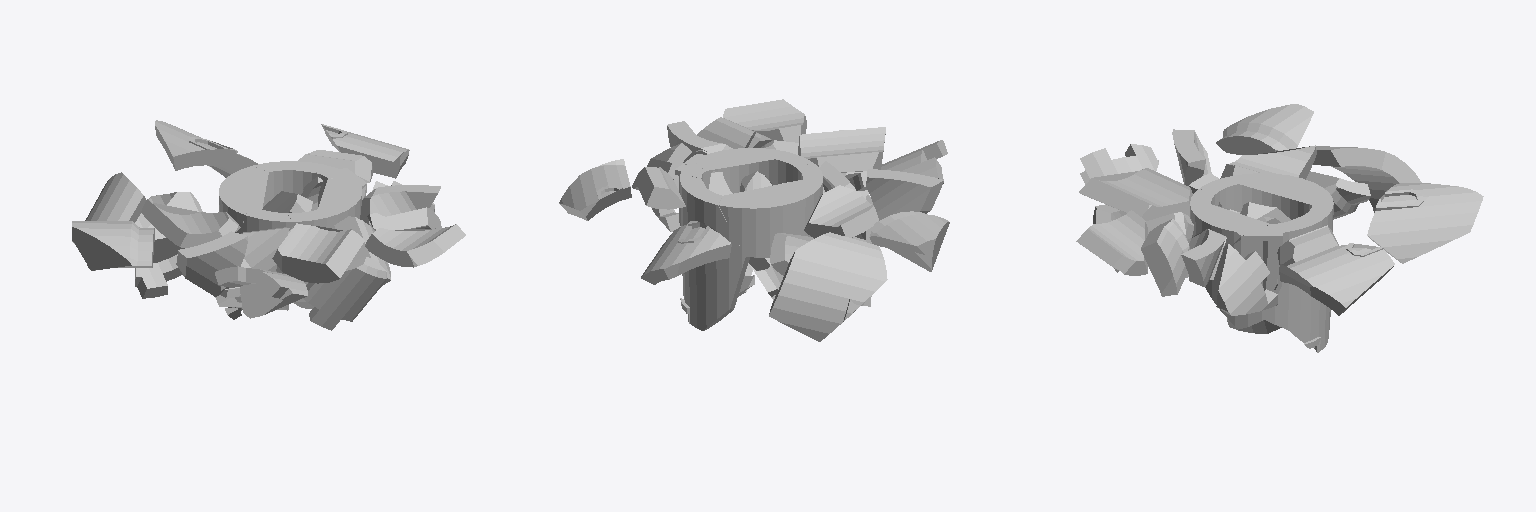
The model's file is destruction_tower_000066.obj.
The picture shows the model from 3 angles: view 1: azimuth 30°, elevation 25°; view 2: azimuth 150°, elevation 25°; view 3: azimuth 270°, elevation 25°; orthographic projection.
Parts seen in each view (by area): view 1: tower.001_cell.024_Mesh.024, tower.001_cell.005_Mesh.005, tower.001_cell.011_Mesh.011, tower.001_cell.006_Mesh.006, tower.001_cell.021_Mesh.021, tower.001_cell.009_Mesh.009, tower.001_cell.025_Mesh.025, tower.001_cell.007_Mesh.007, tower.001_cell.002_Mesh.002, tower.001_cell.028_Mesh.028, tower.001_cell.015_Mesh.015, tower.001_cell.012_Mesh.012 (+9 smaller); view 2: tower.001_cell.003_Mesh.003, tower.001_cell.017_Mesh.017, tower.001_cell.015_Mesh.015, tower.001_cell.024_Mesh.024, tower.001_cell.025_Mesh.025, tower.001_cell.005_Mesh.005, tower.001_cell.028_Mesh.028, tower.001_cell.002_Mesh.002, tower.001_cell.012_Mesh.012, tower.001_cell.009_Mesh.009, tower.001_cell.021_Mesh.021, tower.001_cell.016_Mesh.016 (+7 smaller); view 3: tower.001_cell.025_Mesh.025, tower.001_cell.012_Mesh.012, tower.001_cell.024_Mesh.024, tower.001_cell.005_Mesh.005, tower.001_cell.017_Mesh.017, tower.001_cell.003_Mesh.003, tower.001_cell.030_Mesh.030, tower.001_cell.021_Mesh.021, tower.001_cell.015_Mesh.015, tower.001_cell_Mesh, tower.001_cell.028_Mesh.028, tower.001_cell.009_Mesh.009 (+10 smaller).
Boxes of the visible parts, box(x1,y1,x2,y2) form: tower.001_cell.024_Mesh.024: box(272, 223, 364, 283); tower.001_cell.005_Mesh.005: box(72, 221, 154, 270); tower.001_cell.011_Mesh.011: box(302, 257, 386, 330); tower.001_cell.006_Mesh.006: box(215, 266, 307, 318); tower.001_cell.021_Mesh.021: box(365, 224, 465, 267); tower.001_cell.009_Mesh.009: box(141, 199, 240, 247); tower.001_cell.025_Mesh.025: box(155, 120, 257, 177); tower.001_cell.007_Mesh.007: box(135, 192, 202, 298); tower.001_cell.002_Mesh.002: box(176, 231, 247, 296); tower.001_cell.028_Mesh.028: box(287, 178, 366, 228); tower.001_cell.015_Mesh.015: box(219, 166, 268, 233); tower.001_cell.012_Mesh.012: box(321, 124, 409, 178); tower.001_cell.003_Mesh.003: box(769, 232, 887, 341); tower.001_cell.017_Mesh.017: box(680, 174, 749, 330); tower.001_cell.015_Mesh.015: box(719, 180, 821, 257); tower.001_cell.024_Mesh.024: box(798, 127, 885, 175); tower.001_cell.025_Mesh.025: box(641, 221, 731, 284); tower.001_cell.005_Mesh.005: box(869, 211, 949, 271); tower.001_cell.028_Mesh.028: box(695, 148, 811, 193); tower.001_cell.002_Mesh.002: box(866, 169, 943, 220); tower.001_cell.012_Mesh.012: box(559, 159, 631, 220); tower.001_cell.009_Mesh.009: box(804, 185, 878, 238); tower.001_cell.021_Mesh.021: box(723, 99, 806, 142); tower.001_cell.016_Mesh.016: box(632, 167, 685, 209); tower.001_cell.025_Mesh.025: box(1367, 183, 1483, 263); tower.001_cell.012_Mesh.012: box(1279, 243, 1394, 315); tower.001_cell.024_Mesh.024: box(1079, 168, 1192, 220); tower.001_cell.005_Mesh.005: box(1216, 104, 1313, 154); tower.001_cell.017_Mesh.017: box(1288, 202, 1333, 352); tower.001_cell.003_Mesh.003: box(1313, 146, 1421, 212); tower.001_cell.030_Mesh.030: box(1216, 244, 1277, 315); tower.001_cell.021_Mesh.021: box(1076, 210, 1147, 275); tower.001_cell.015_Mesh.015: box(1239, 173, 1332, 219); tower.001_cell_Mesh: box(1141, 219, 1188, 296); tower.001_cell.028_Mesh.028: box(1190, 189, 1268, 252); tower.001_cell.009_Mesh.009: box(1220, 145, 1316, 179).
Size of the model in its own units: 121 by 44.81 by 121.